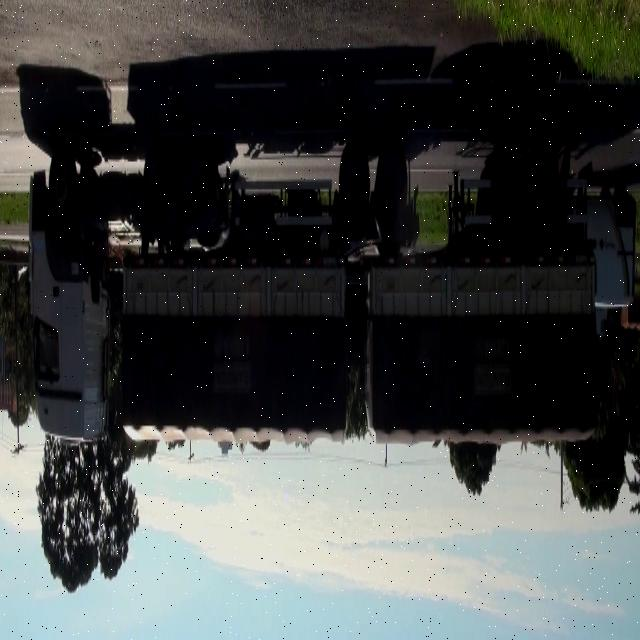-axle: (374, 134, 408, 250), (338, 130, 369, 241), (488, 142, 522, 234), (529, 146, 559, 232), (46, 146, 76, 232), (179, 146, 209, 230), (144, 146, 173, 224)
